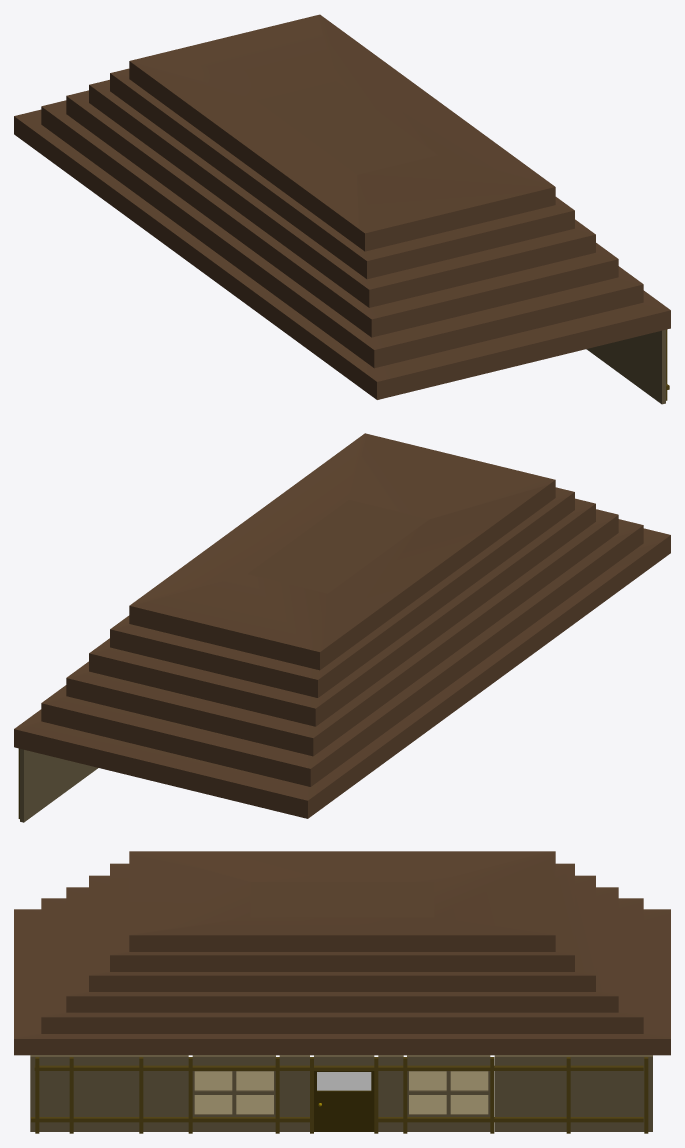
File: house.fbx
3 views of the same model, one above another, from view 1: azimuth 30°, elevation 25°; view 2: azimuth 150°, elevation 25°; view 3: azimuth 270°, elevation 25° (orthographic). The views are drawn at different scales.
Parts seen in each view (by area): view 1: polySurface523, polySurface513; view 2: polySurface523, polySurface515; view 3: polySurface523, polySurface515, polySurface513, pCylinder163, polySurface521, polySurface522, polySurface514, polySurface516, polySurface517, polySurface518, pCube282, pCube281 (+4 smaller).
Part boxes in pixels (box(x1,y1,x2,y2)): polySurface523: box(14, 14, 670, 399); polySurface513: box(586, 329, 665, 404); polySurface523: box(14, 433, 670, 818); polySurface515: box(20, 749, 97, 822); polySurface523: box(14, 851, 670, 1055); polySurface515: box(494, 1055, 652, 1131); polySurface513: box(30, 1055, 188, 1131); pCylinder163: box(314, 1071, 374, 1131); polySurface521: box(194, 1071, 273, 1113); polySurface522: box(409, 1071, 488, 1113); polySurface514: box(192, 1055, 275, 1131); polySurface516: box(407, 1055, 490, 1131); polySurface517: box(279, 1055, 309, 1131); polySurface518: box(378, 1055, 403, 1131); pCube282: box(31, 1117, 311, 1122); pCube281: box(34, 1065, 314, 1070).
Size of the model in its own units: 1088 by 655 by 2268.
